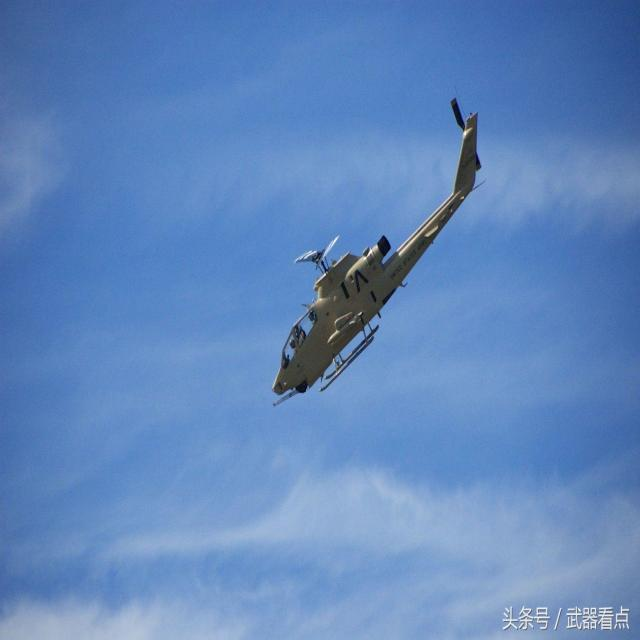MIL_HELO: (248, 93, 491, 418)
